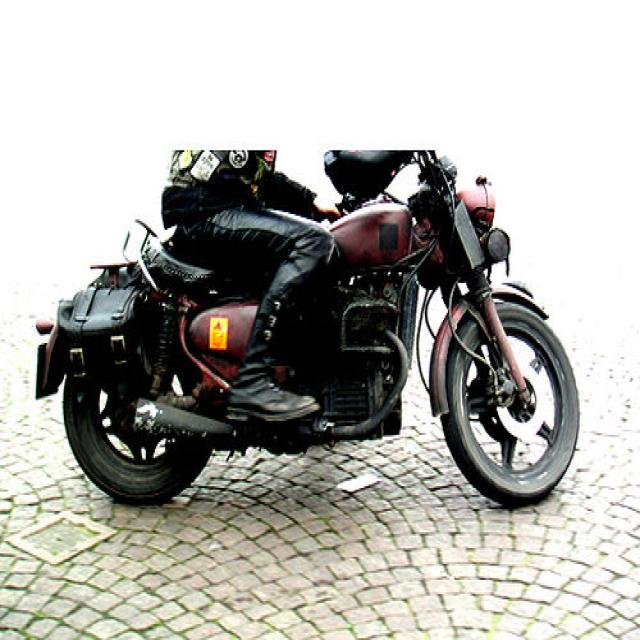motorcycle: (40, 148, 572, 510)
